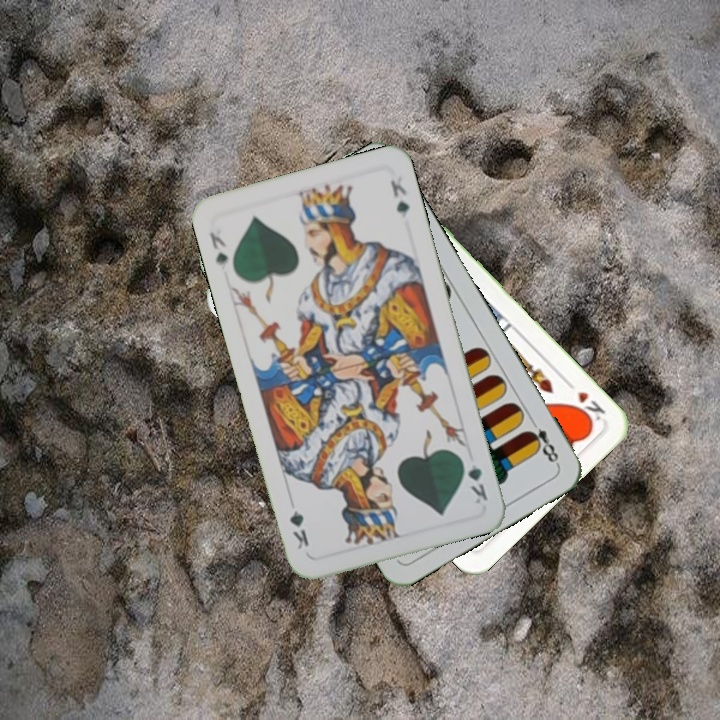E8: (522, 414, 562, 468)
GK: (457, 452, 490, 507), (205, 228, 231, 268)
HK: (560, 375, 608, 427)
